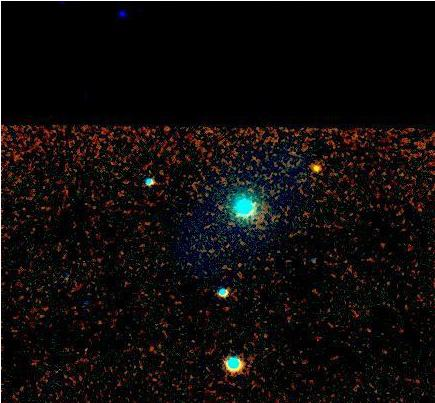star: (301, 150, 331, 180)
